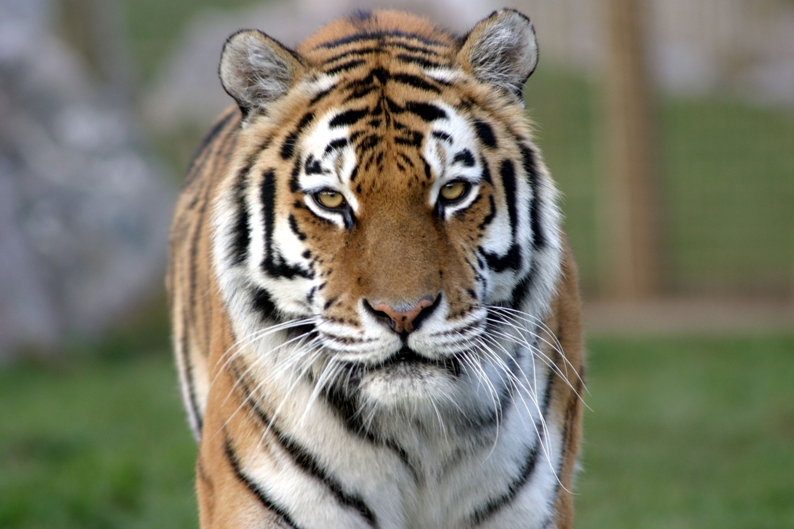Tiger: (166, 7, 599, 528)
